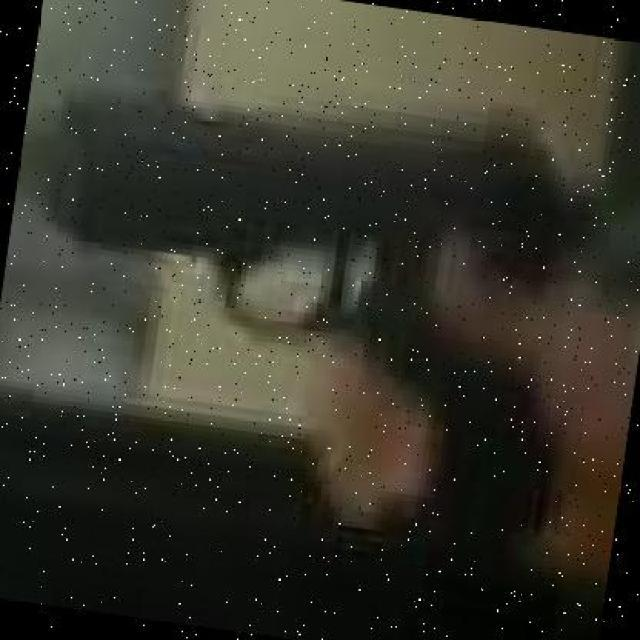rifle: (39, 78, 586, 318)
